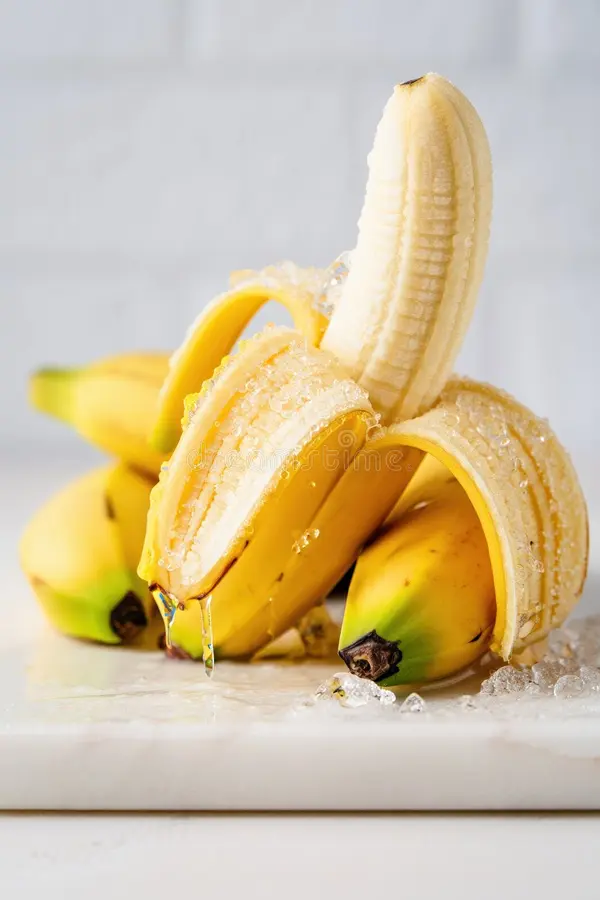banana: (27, 55, 577, 697)
